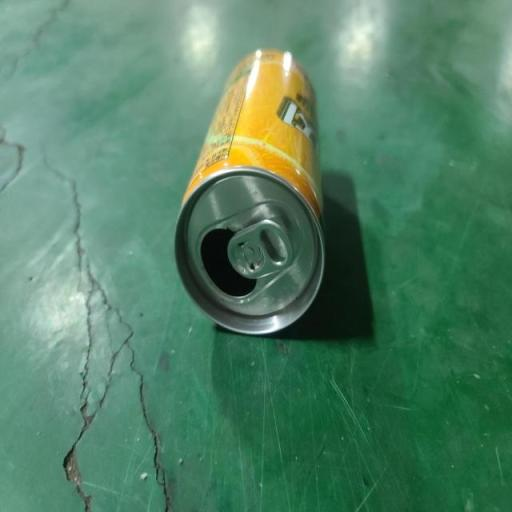metal: (154, 24, 356, 351)
